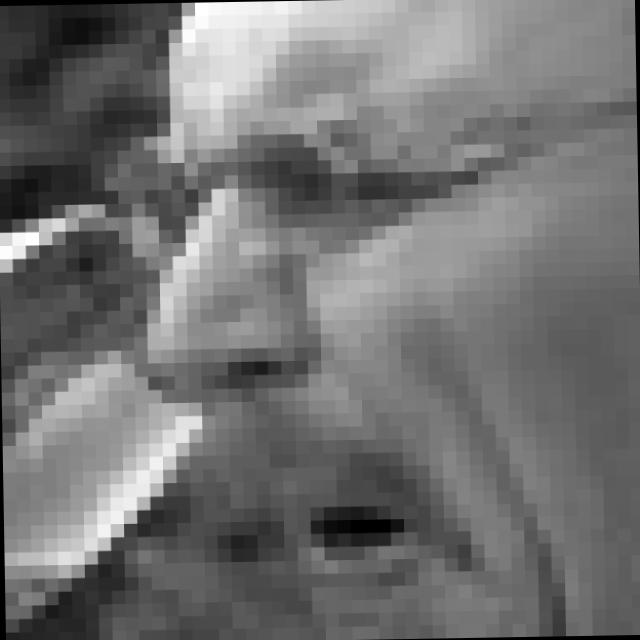disgust: (156, 113, 499, 606)
